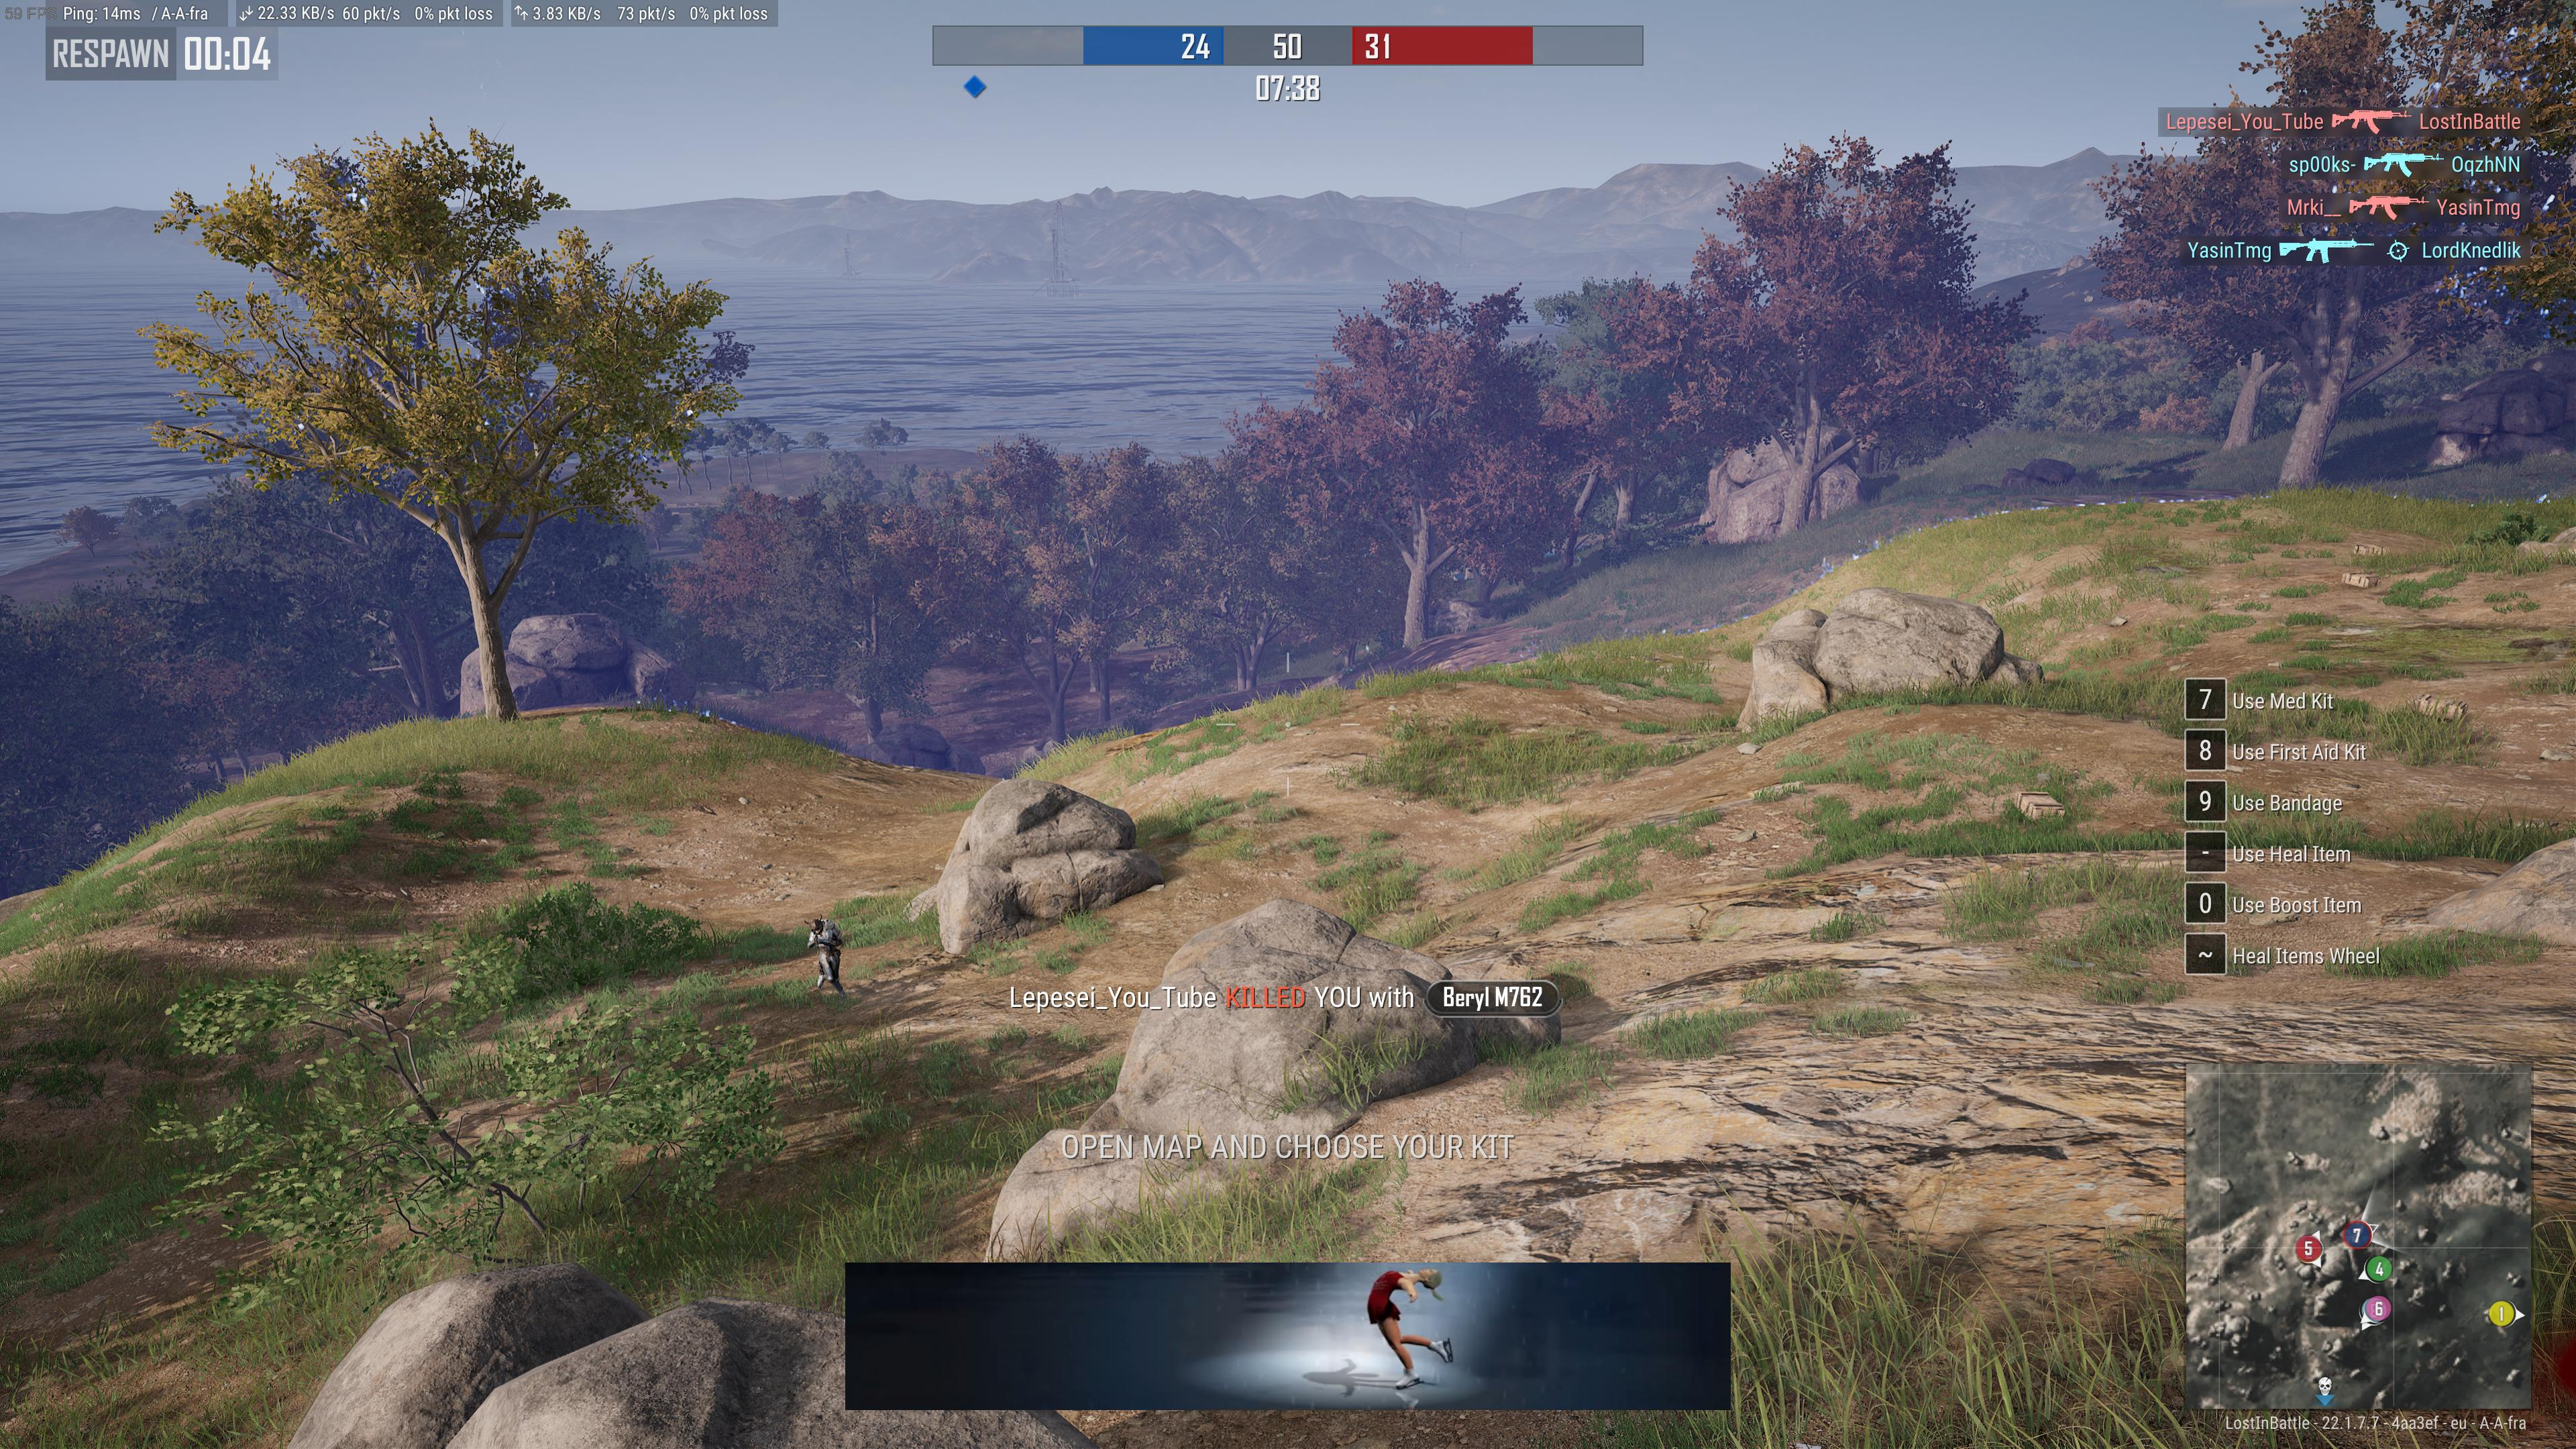enemy: (803, 913, 847, 1000)
enemy_head: (807, 916, 823, 936)
